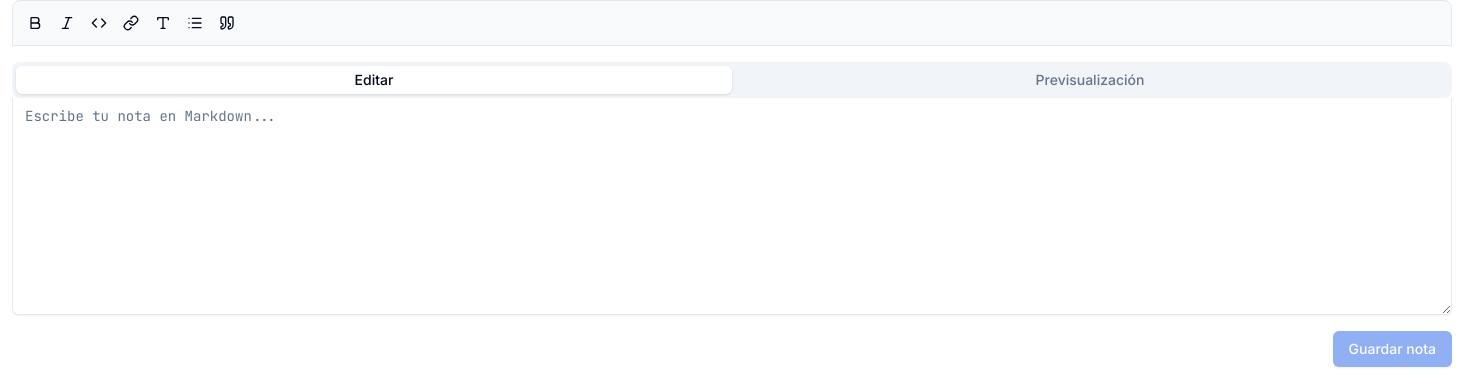
Test: NoteEditor › renders sanitized HTML in preview (removes script tags)
The width and height of the screenshot is (1464, 385).
Step 1. Type "<script>alert('xss')</script>Safe content" into the text box with placeholder "Escribe tu nota en Markdown..." → x=732, y=206, box [12, 98, 1452, 315]
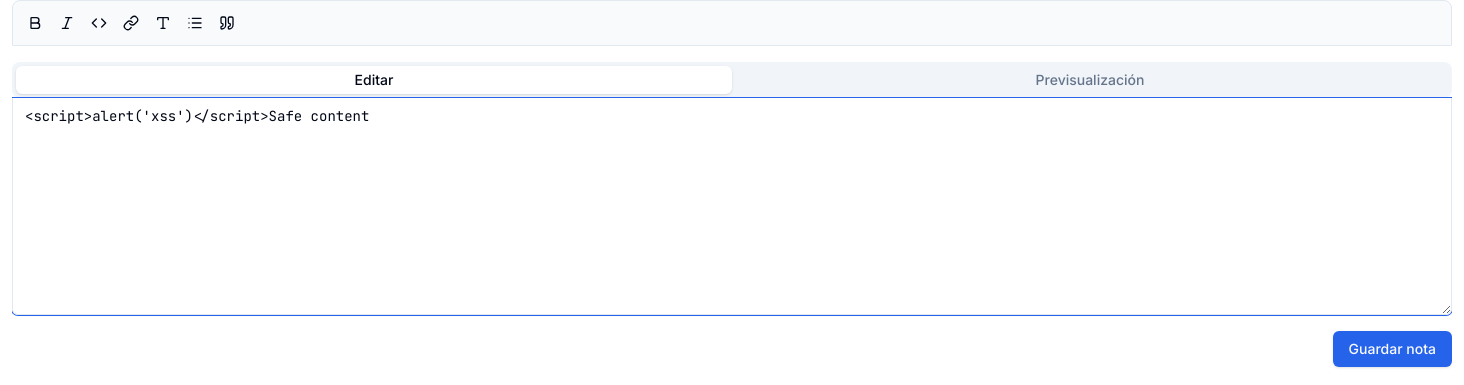
# Switch to preview tab
Step 2. Click the tab "Previsualización" → x=1090, y=80, box [732, 66, 1448, 94]
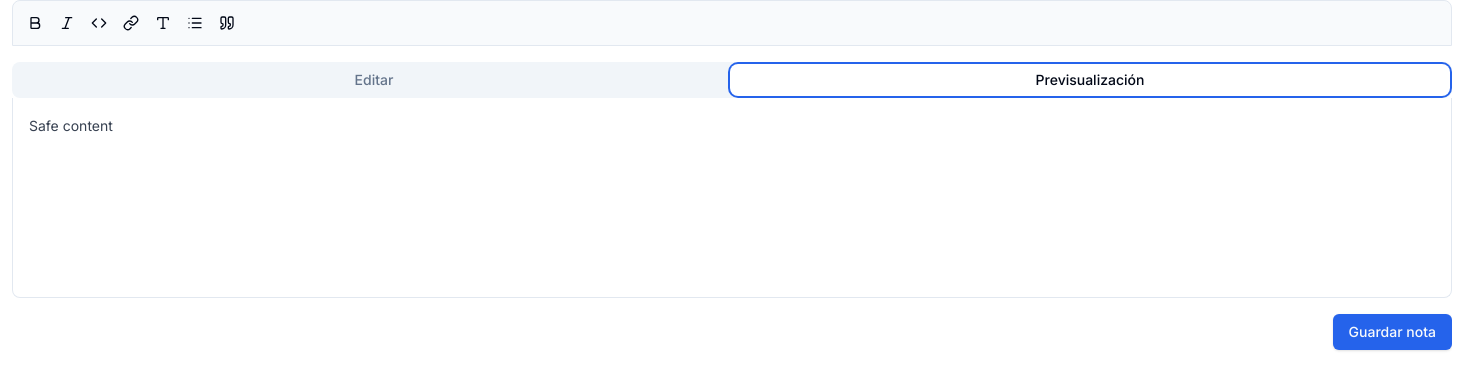
Expected: the panel named "previsualización" reads "Safe content", [29, 117, 113, 134]
